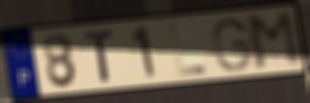1: (130, 24, 157, 80)
8: (42, 31, 78, 90)
G: (210, 16, 253, 73)
L: (168, 22, 208, 77)
M: (242, 9, 305, 73)
T: (82, 28, 116, 84)
